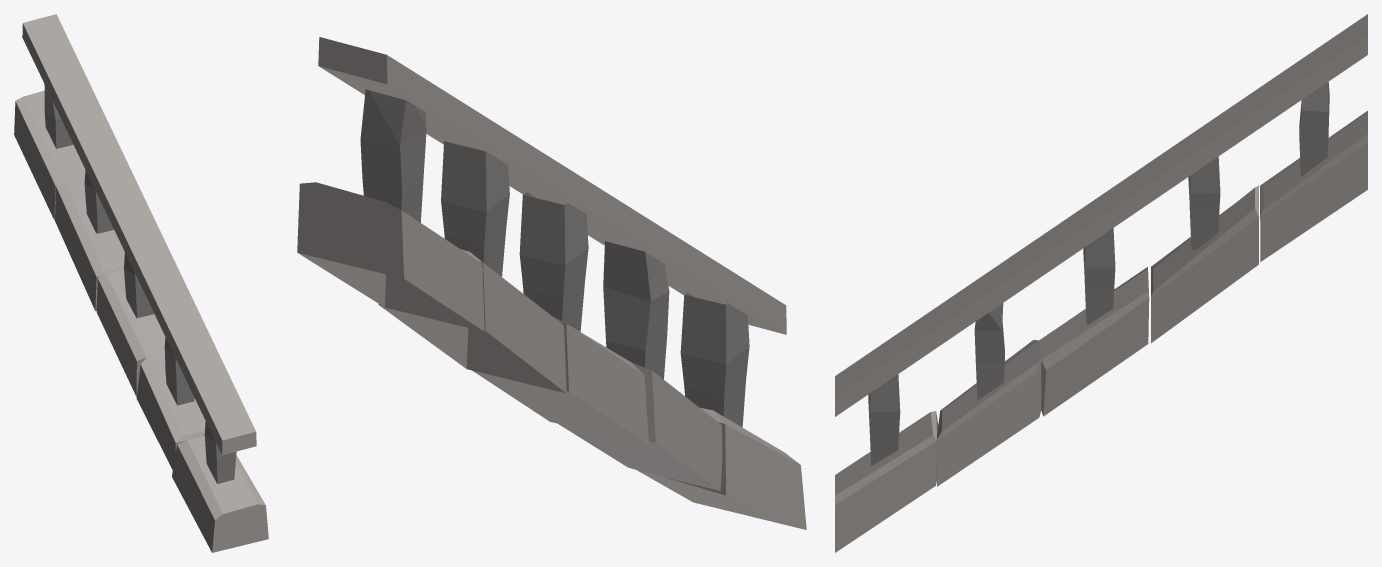
Rendered from railing-stairs-stone.glb.
3 renders of one model, left to right at view 1: azimuth 30°, elevation 25°; view 2: azimuth 150°, elevation 25°; view 3: azimuth 270°, elevation 25°, orthographic. The views are drawn at different scales.
Parts seen in each view (by area): view 1: railing-stairs-stone; view 2: railing-stairs-stone; view 3: railing-stairs-stone.
Part boxes in pixels (x1=…): railing-stairs-stone: x1=14, y1=14, x2=268, y2=552; railing-stairs-stone: x1=297, y1=37, x2=806, y2=529; railing-stairs-stone: x1=835, y1=14, x2=1367, y2=552.
Size of the model in its own units: 0.6566 by 4.22 by 4.
1 material, 1 textured.
